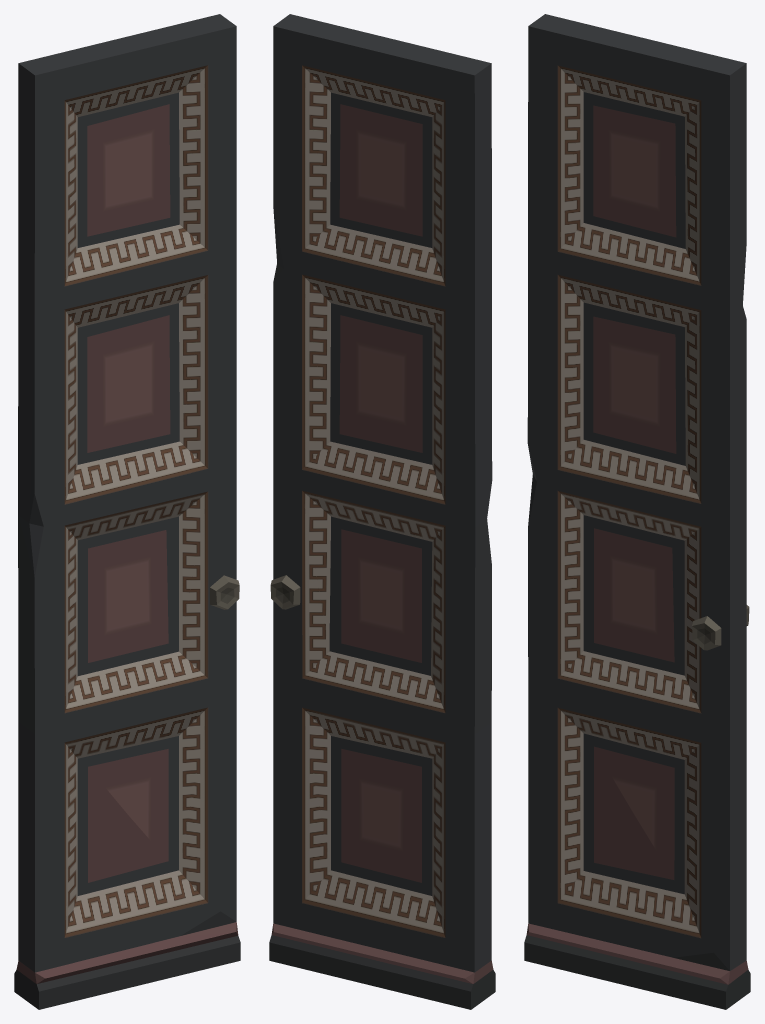
File: ancient_SM_Bld_Door_Large_Half_02.gltf
3 renders of one model, left to right at view 1: azimuth 30°, elevation 25°; view 2: azimuth 150°, elevation 25°; view 3: azimuth 330°, elevation 25°, orthographic.
Parts seen in each view (by area): view 1: SM_Bld_Door_Large_Half_02; view 2: SM_Bld_Door_Large_Half_02; view 3: SM_Bld_Door_Large_Half_02.
Part boxes in pixels (<box>): SM_Bld_Door_Large_Half_02: <box>14,14,240,1009</box>; SM_Bld_Door_Large_Half_02: <box>269,14,495,1009</box>; SM_Bld_Door_Large_Half_02: <box>524,14,750,1009</box>.
Size of the model in its own units: 0.5604 by 2.47 by 0.1631.
Materials: 1 (1 with a texture image).
